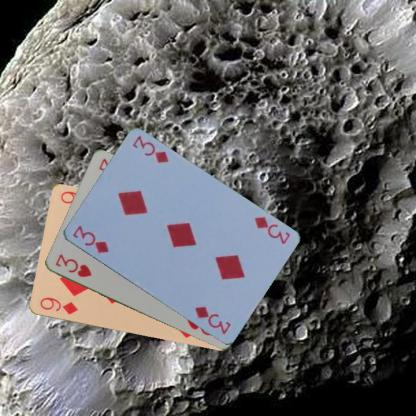3d: (70, 222, 110, 256), (251, 214, 292, 246)
3h: (52, 251, 92, 279)
9d: (37, 293, 79, 317)
